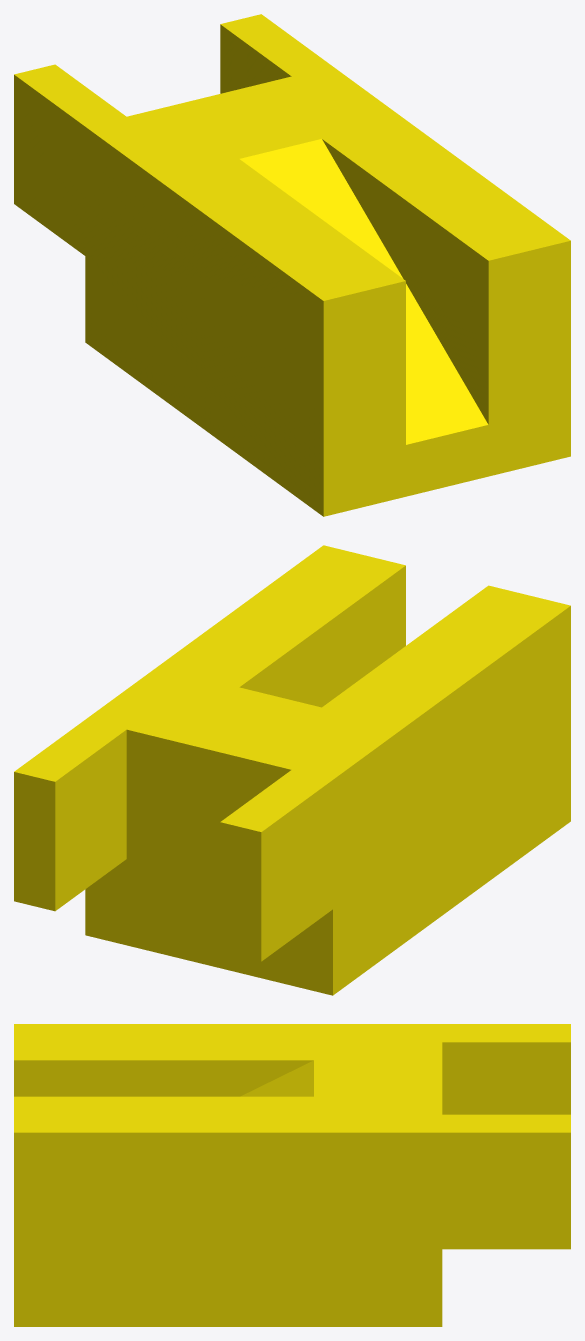
Rendered from modelo_didático_21.gltf.
3 renders of one model, top to bottom at view 1: azimuth 30°, elevation 25°; view 2: azimuth 150°, elevation 25°; view 3: azimuth 270°, elevation 25°, orthographic. The views are drawn at different scales.
Visible parts, largest first — view 1: Modelo didatico 21.SLDPRT; view 2: Modelo didatico 21.SLDPRT; view 3: Modelo didatico 21.SLDPRT.
Part boxes in pixels (bbox=[...]): Modelo didatico 21.SLDPRT: bbox=[14, 14, 570, 516]; Modelo didatico 21.SLDPRT: bbox=[14, 545, 570, 995]; Modelo didatico 21.SLDPRT: bbox=[14, 1024, 570, 1326].
Size of the model in its own units: 0.03 by 0.025 by 0.065.
